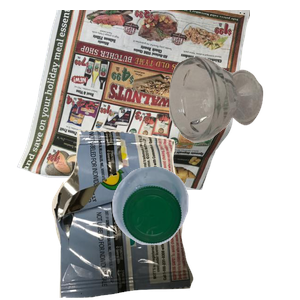glass: (166, 54, 300, 189)
paper: (14, 10, 254, 190)
plastic: (110, 164, 300, 300)
trash: (49, 130, 235, 300)
